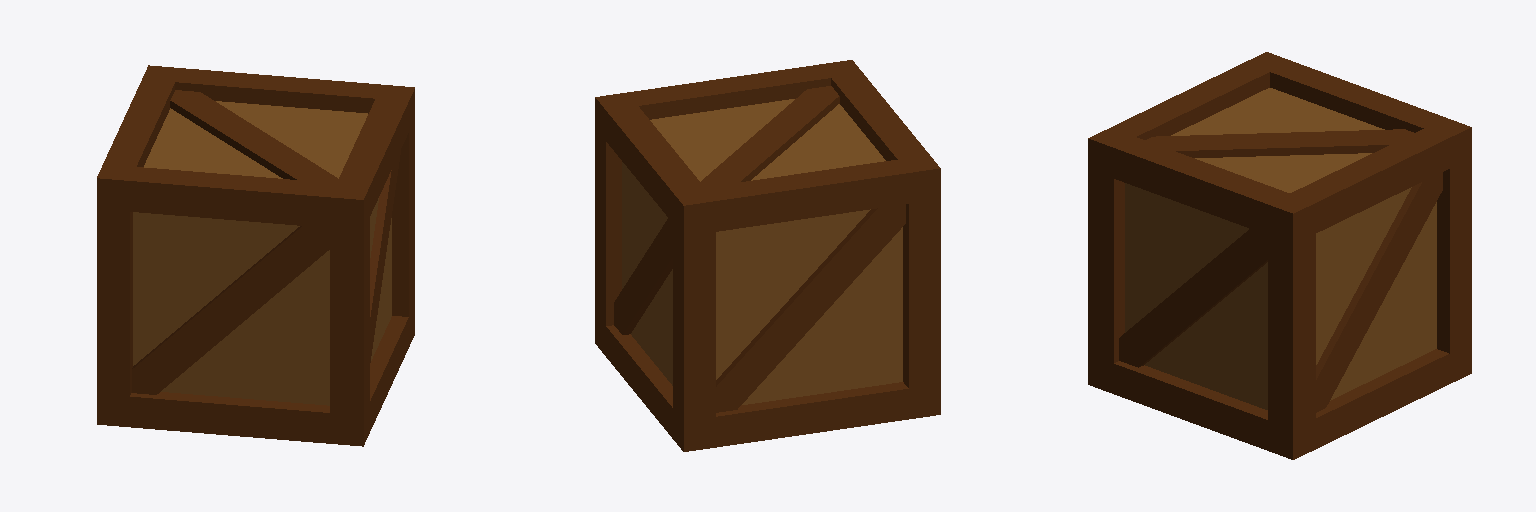
File: Crate2.obj
3 renders of one model, left to right at view 1: azimuth 30°, elevation 25°; view 2: azimuth 150°, elevation 25°; view 3: azimuth 270°, elevation 25°, orthographic.
Parts seen in each view (by area): view 1: Mesh1 Group1 Model; view 2: Mesh1 Group1 Model; view 3: Mesh1 Group1 Model.
Part boxes in pixels (bbox=[...]): Mesh1 Group1 Model: bbox=[97, 65, 414, 446]; Mesh1 Group1 Model: bbox=[595, 60, 940, 451]; Mesh1 Group1 Model: bbox=[1088, 52, 1471, 459].
Bounding box in the file's own units: 0.4514 × 0.32 × 0.4514.